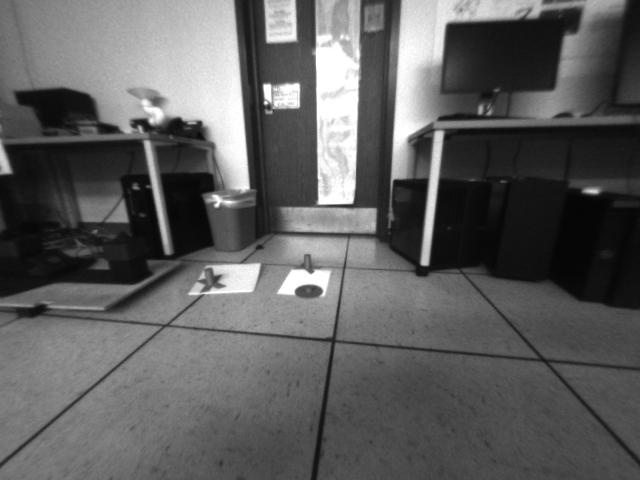X: (197, 267, 229, 295), (295, 251, 319, 272)
